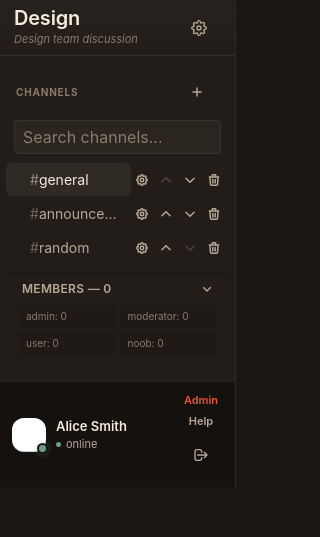
ChannelsSidebar channel rows › shows channel move errors inline
This screenshot has width=320, height=537.
Click the button titled "Move down" at [190, 180], box [179,168,201,190]
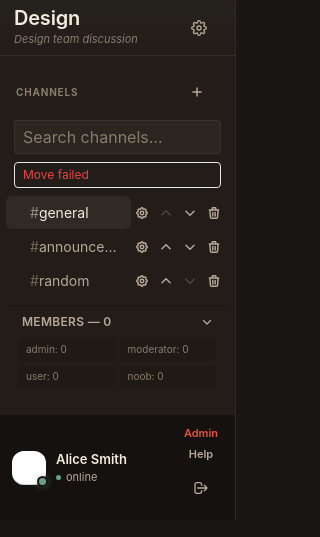
Expected: the text with test id "channel-action-error" reads "Move failed", [23,167,89,182]
